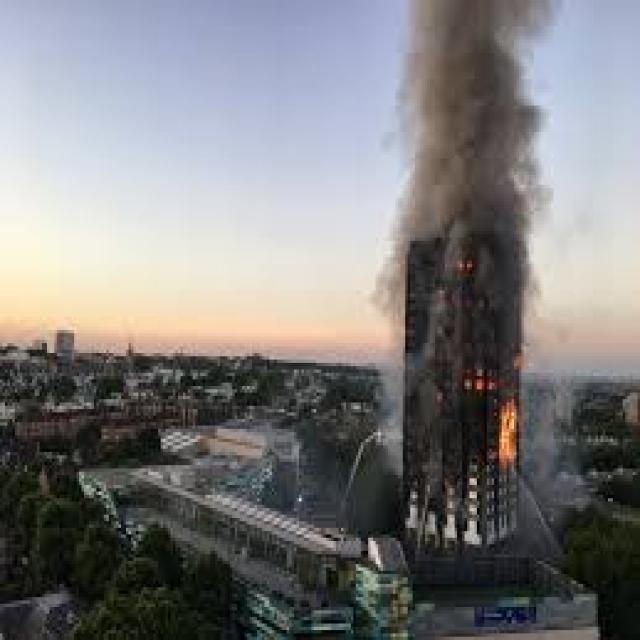Fire: (462, 363, 529, 486)
Smoke: (385, 0, 559, 242)
